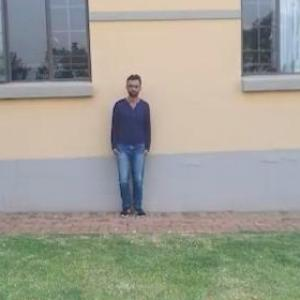follow: (109, 72, 152, 216)
